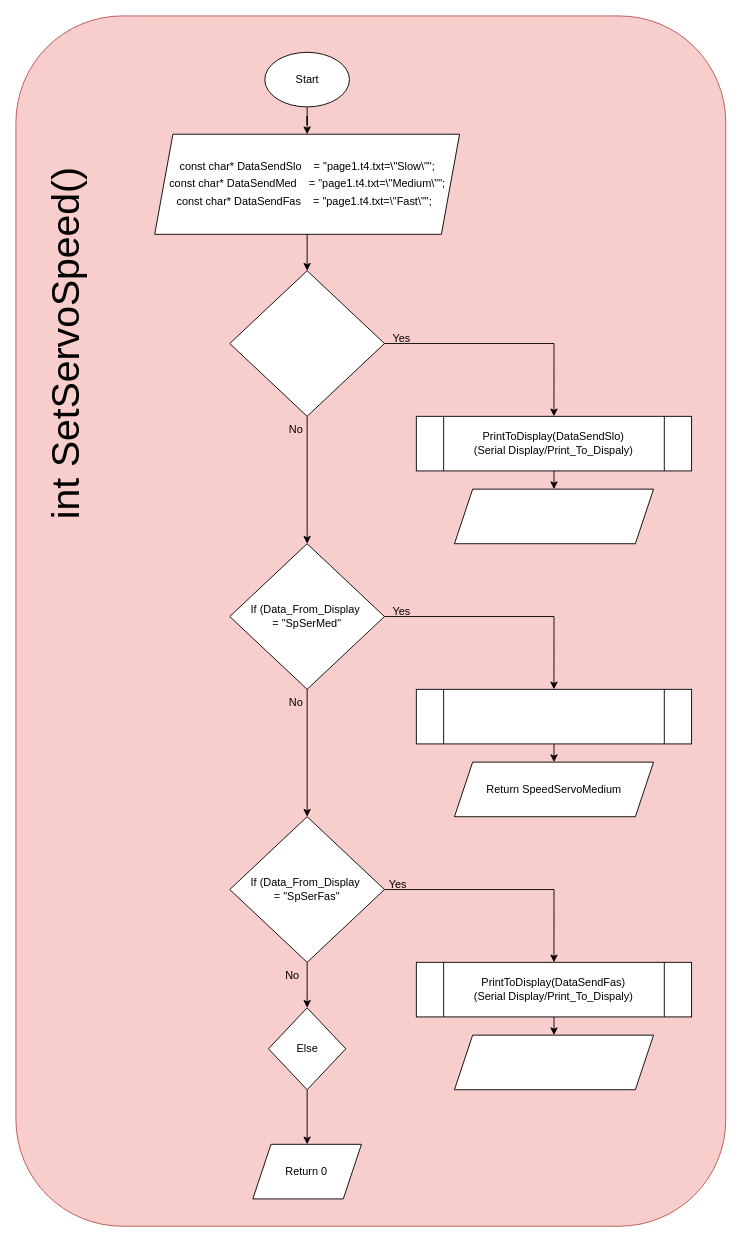
Some shapes in this 742 by 1242 pixel diagram are drawn without their labels. Here are the shapes that lost their labels. From the top down, the box of each, then its label:
(229, 270, 384, 416): If (Data_From_Display = "SpSerSlo"
(454, 488, 654, 544): Return SpeedServoSlow
(415, 688, 692, 744): PrintToDisplay(DataSendMed ) (Serial Display/Print_To_Dispaly)
(454, 1034, 654, 1090): Return SpeedServoFast
